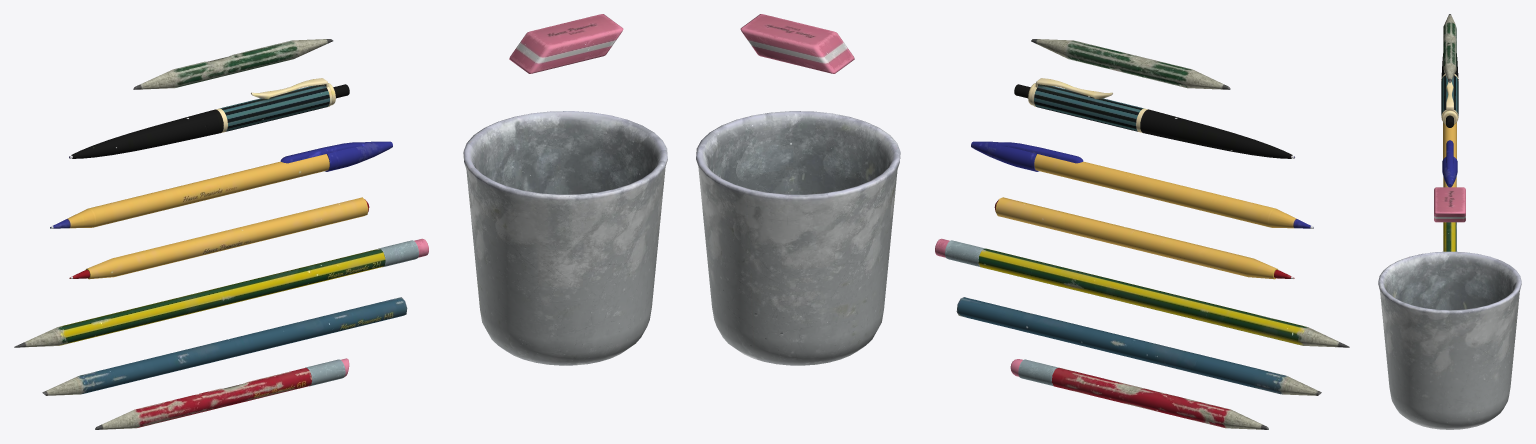
File: stationery_supplies.glb
3 renders of one model, left to right at view 1: azimuth 30°, elevation 25°; view 2: azimuth 150°, elevation 25°; view 3: azimuth 270°, elevation 25°, orthographic. The views are drawn at different scales.
Parts seen in each view (by area): view 1: stationery_supplies_pencilcup, stationery_supplies_pencil_new_a, stationery_supplies_pencil_new_b, stationery_supplies_pen_blue, stationery_supplies_pen_fancy, stationery_supplies_pen_red, stationery_supplies_pencil_used, stationery_supplies_eraser, stationery_supplies_pencil_old; view 2: stationery_supplies_pencilcup, stationery_supplies_pencil_new_a, stationery_supplies_pencil_new_b, stationery_supplies_pen_blue, stationery_supplies_pen_fancy, stationery_supplies_pen_red, stationery_supplies_pencil_used, stationery_supplies_eraser, stationery_supplies_pencil_old; view 3: stationery_supplies_pencilcup, stationery_supplies_eraser, stationery_supplies_pen_fancy, stationery_supplies_pen_blue, stationery_supplies_pencil_old, stationery_supplies_pencil_new_a.
Boxes of the visible parts, x1,y1,x2,y2 form: stationery_supplies_pencilcup: (463, 111, 667, 365); stationery_supplies_pencil_new_a: (14, 238, 428, 347); stationery_supplies_pencil_new_b: (42, 297, 407, 395); stationery_supplies_pen_blue: (50, 141, 392, 228); stationery_supplies_pen_fancy: (69, 78, 349, 158); stationery_supplies_pen_red: (69, 197, 369, 279); stationery_supplies_pencil_used: (95, 358, 349, 429); stationery_supplies_eraser: (509, 14, 623, 73); stationery_supplies_pencil_old: (133, 39, 333, 89); stationery_supplies_pencilcup: (696, 111, 900, 365); stationery_supplies_pencil_new_a: (935, 238, 1349, 347); stationery_supplies_pencil_new_b: (956, 297, 1321, 395); stationery_supplies_pen_blue: (971, 141, 1313, 228); stationery_supplies_pen_fancy: (1014, 78, 1294, 158); stationery_supplies_pen_red: (994, 197, 1294, 279); stationery_supplies_pencil_used: (1010, 359, 1268, 429); stationery_supplies_eraser: (740, 14, 854, 73); stationery_supplies_pencil_old: (1031, 39, 1230, 89); stationery_supplies_pencilcup: (1378, 251, 1521, 429); stationery_supplies_eraser: (1434, 187, 1465, 222); stationery_supplies_pen_fancy: (1441, 53, 1458, 127); stationery_supplies_pen_blue: (1442, 122, 1457, 187); stationery_supplies_pencil_old: (1443, 14, 1456, 82); stationery_supplies_pencil_new_a: (1443, 222, 1456, 251).
Size of the model in its own units: 0.3019 by 0.1643 by 0.0837.
1 material, 1 textured.
